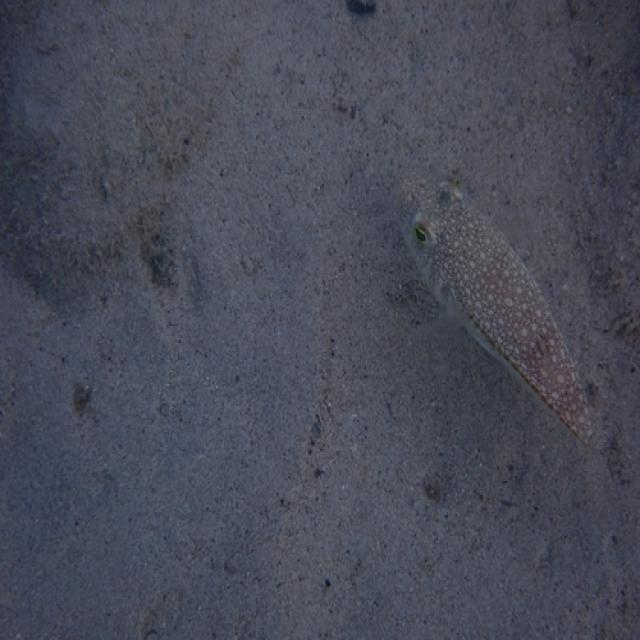Balik: (400, 181, 593, 442)
